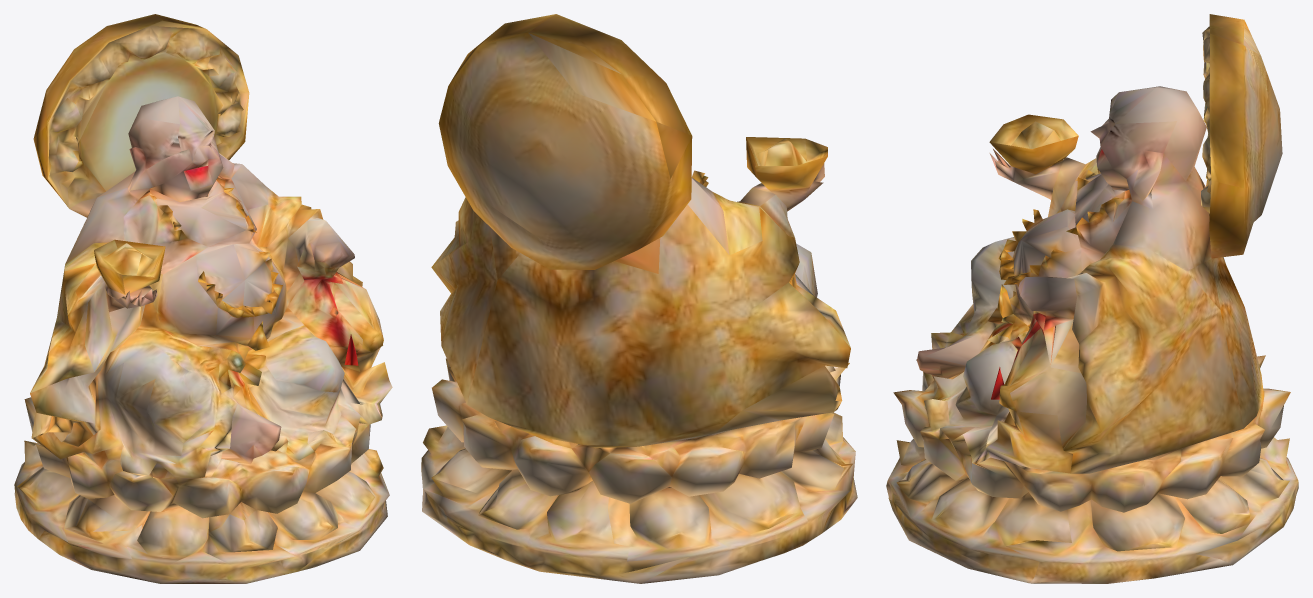
The model's file is far.glb.
3 renders of one model, left to right at view 1: azimuth 30°, elevation 25°; view 2: azimuth 150°, elevation 25°; view 3: azimuth 270°, elevation 25°, orthographic. The views are drawn at different scales.
Visible parts, largest first — view 1: owner-collection20-12; view 2: owner-collection20-12; view 3: owner-collection20-12.
Part boxes in pixels (left/top/right/bottom): owner-collection20-12: left=14, top=14, right=392, bottom=583; owner-collection20-12: left=421, top=14, right=857, bottom=583; owner-collection20-12: left=886, top=14, right=1298, bottom=583.
Size of the model in its own units: 0.8216 by 0.9943 by 0.7796.
1 material, 1 textured.
